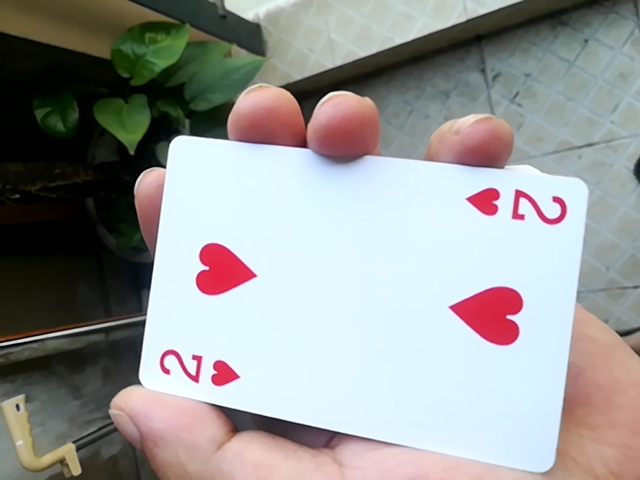hx 2: (133, 131, 589, 461)
